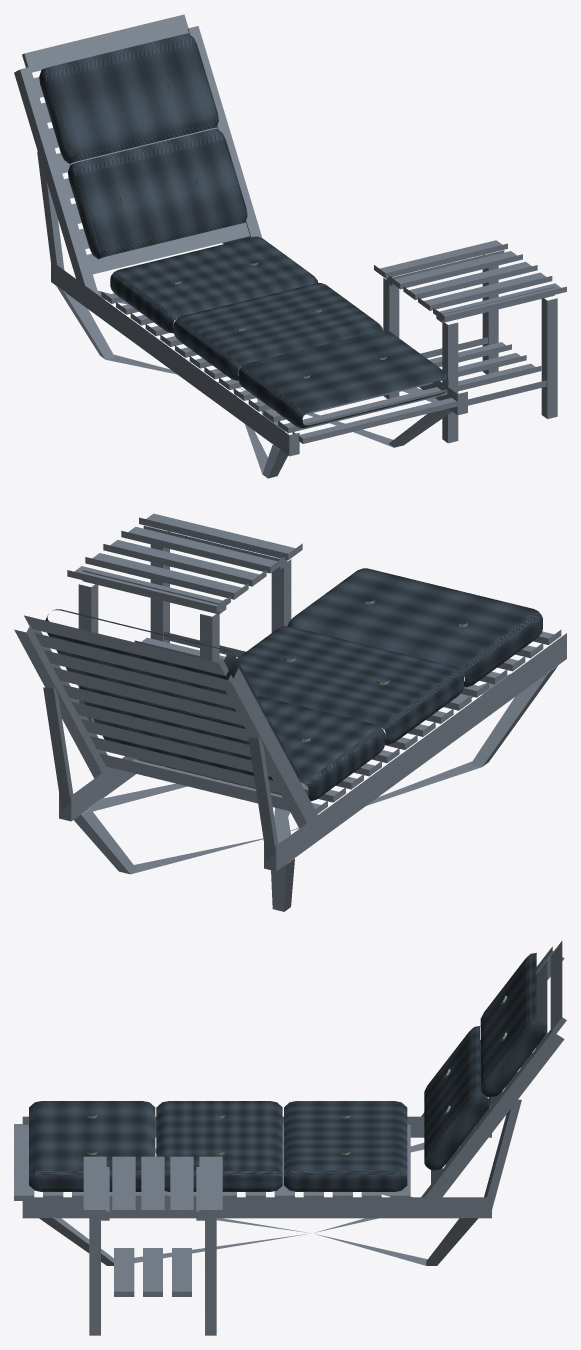
The model's file is lounger_L3.glb.
3 renders of one model, top to bottom at view 1: azimuth 30°, elevation 25°; view 2: azimuth 150°, elevation 25°; view 3: azimuth 270°, elevation 25°, orthographic. The views are drawn at different scales.
Visible parts, largest first — view 1: Cushions, Lounger_Slat_Frame, Table_Slat_Frame; view 2: Lounger_Slat_Frame, Cushions, Table_Slat_Frame; view 3: Cushions, Lounger_Slat_Frame, Table_Slat_Frame.
Part boxes in pixels (bbox=[...]): Cushions: bbox=[39, 33, 448, 427]; Lounger_Slat_Frame: bbox=[14, 14, 467, 478]; Table_Slat_Frame: bbox=[374, 240, 566, 443]; Lounger_Slat_Frame: bbox=[14, 615, 566, 911]; Cushions: bbox=[45, 568, 542, 801]; Table_Slat_Frame: bbox=[67, 513, 302, 722]; Cushions: bbox=[29, 953, 546, 1191]; Lounger_Slat_Frame: bbox=[14, 941, 566, 1265]; Table_Slat_Frame: bbox=[83, 1156, 222, 1335].
Size of the model in its own units: 1.22 by 0.9698 by 1.91.
Materials: 3 (2 with a texture image).
